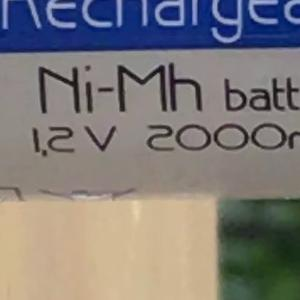NIMH: (29, 23, 233, 124)
